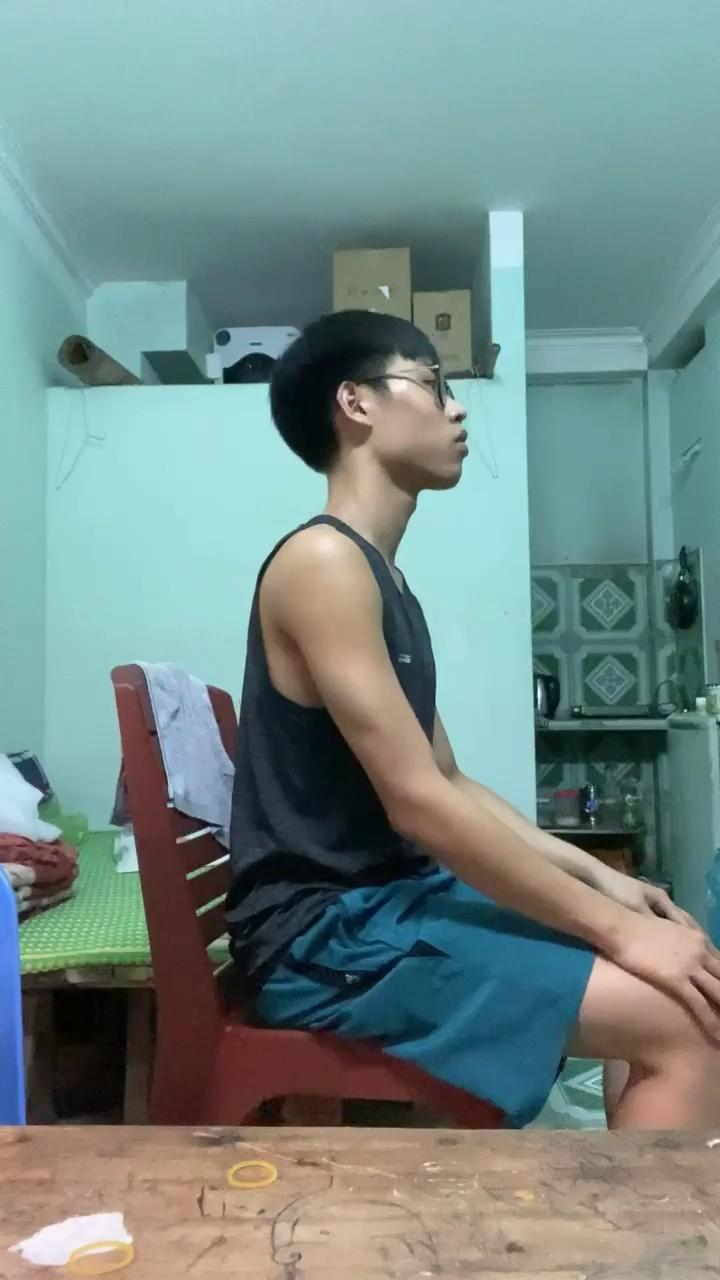GoodPosture: (227, 311, 719, 1129)
